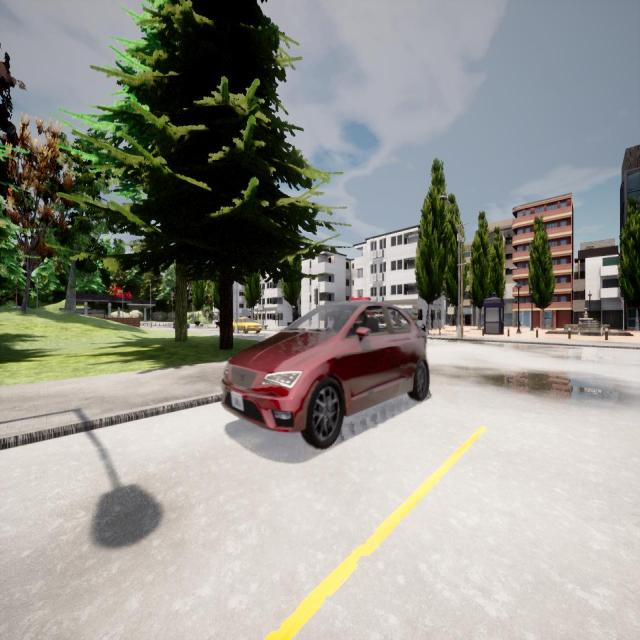Traffic_Signs: (206, 312, 209, 317)
Vehicle: (221, 302, 428, 446), (232, 317, 262, 335)
